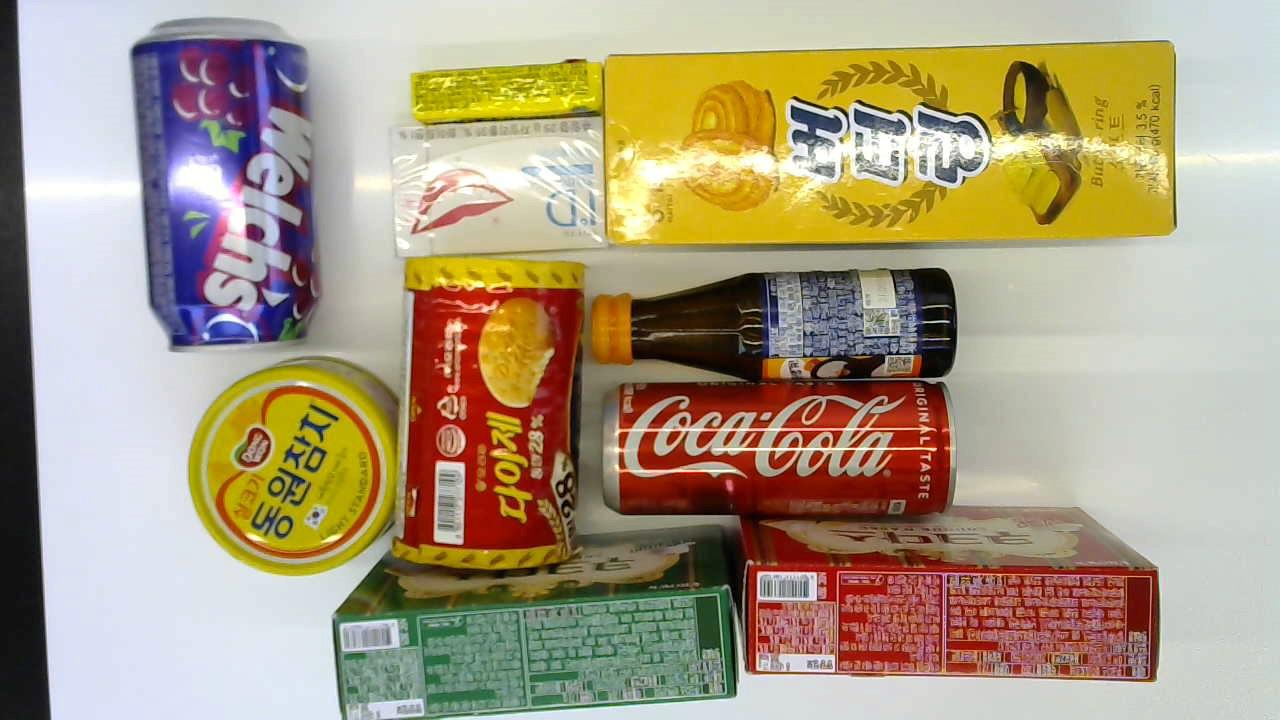ID_gum: (388, 119, 608, 255)
buttering: (604, 42, 1176, 244)
coke: (602, 377, 964, 516)
couque_coffee: (330, 524, 731, 715)
couque_white: (743, 512, 1162, 687)
diget_ori: (394, 255, 583, 570)
juicyfresh: (411, 63, 614, 116)
tuna: (189, 353, 399, 574)
vita500: (587, 268, 959, 380)
welchs: (123, 15, 319, 349)
